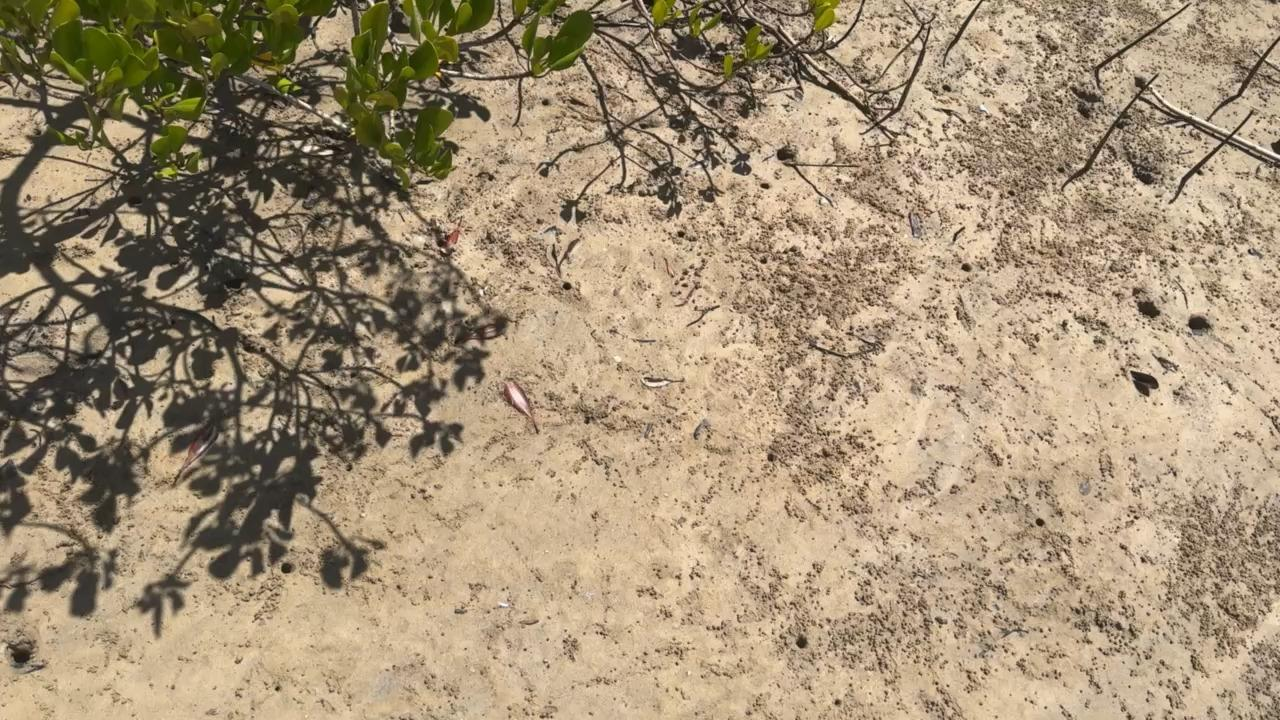Tree: (1083, 73, 1159, 172), (1095, 2, 1192, 70), (1181, 109, 1254, 184), (896, 25, 931, 111), (1237, 36, 1280, 95), (952, 0, 987, 46)
